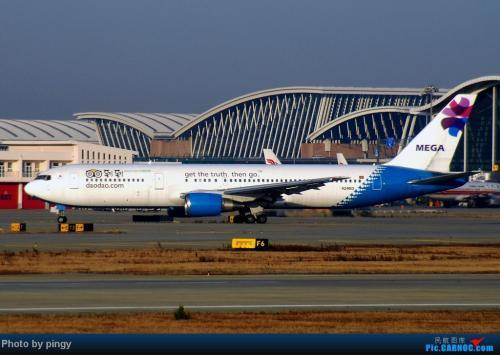airplane: (22, 94, 487, 222)
